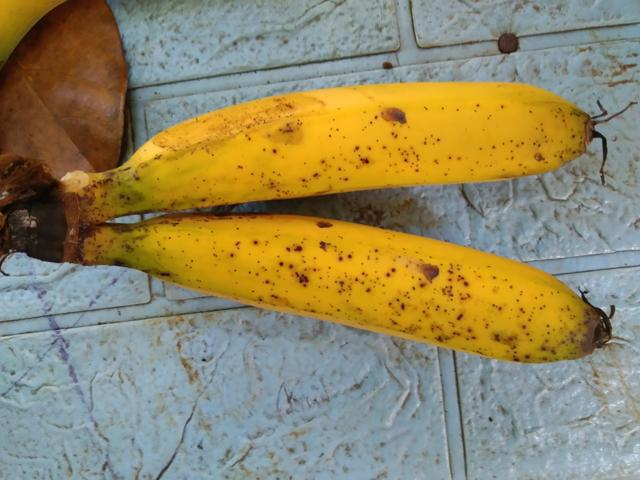ripe: (115, 198, 610, 374), (93, 61, 590, 210)
